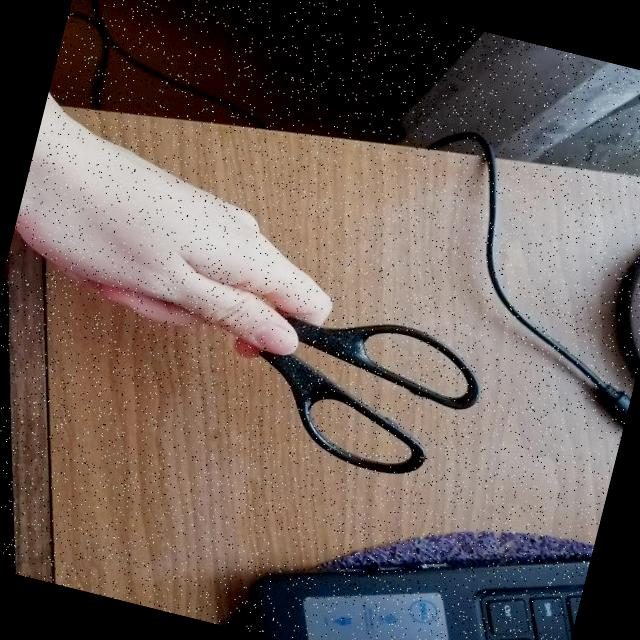scissors: (39, 230, 498, 497)
